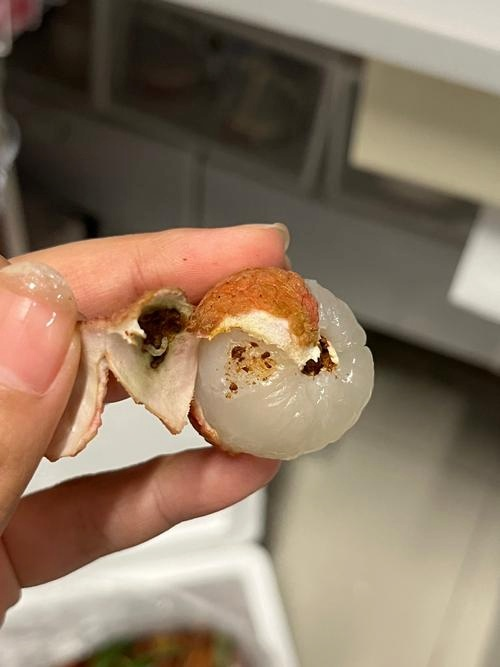Borer: (139, 321, 170, 357)
